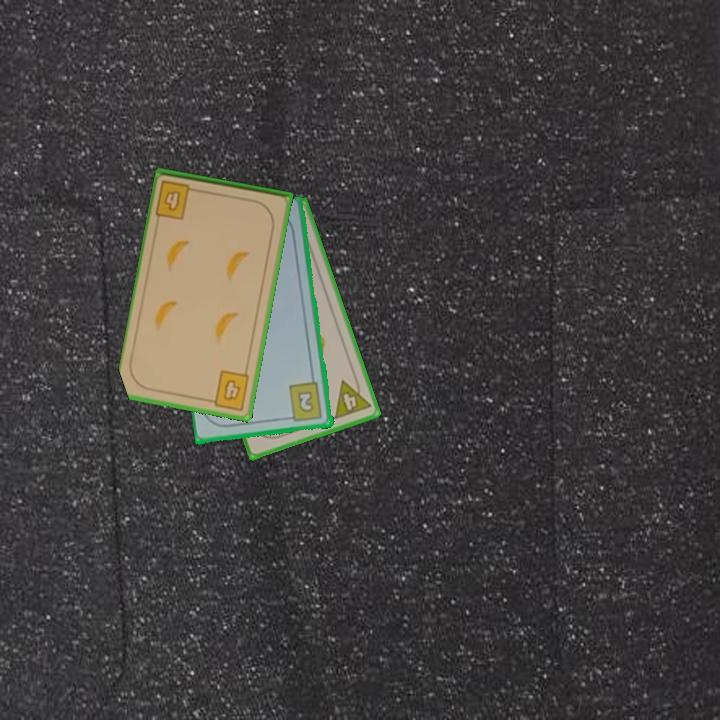2b: (283, 379, 325, 425)
4b: (152, 176, 202, 222), (204, 367, 252, 413)
4p: (331, 373, 374, 422)
